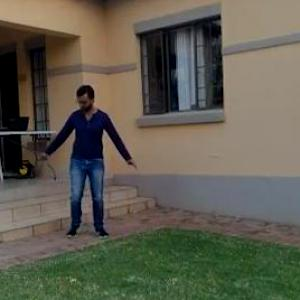land: (41, 83, 139, 237)
